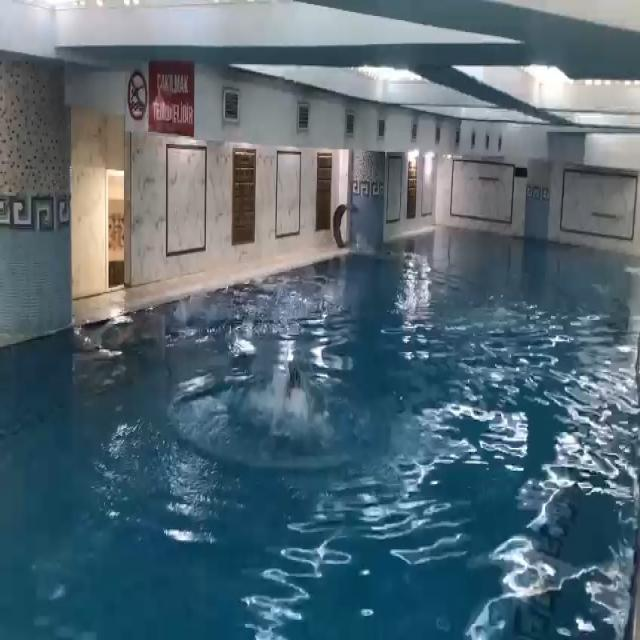Drowning: (261, 358, 323, 431)
